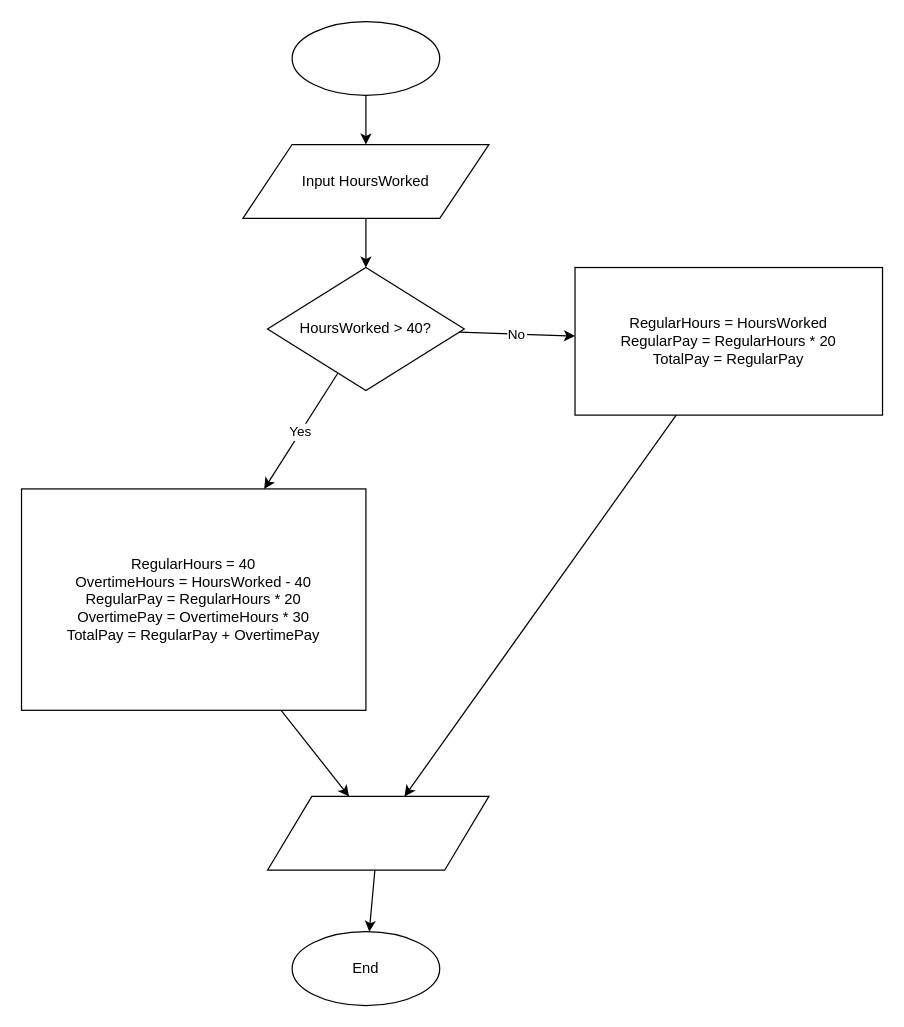
Image size: 904x1027. Some labels were removed from this diagram. Each missing label, with the centre of its shape:
"Display TotalPay" goes at point 377,832.
"Start" goes at point 365,57.
